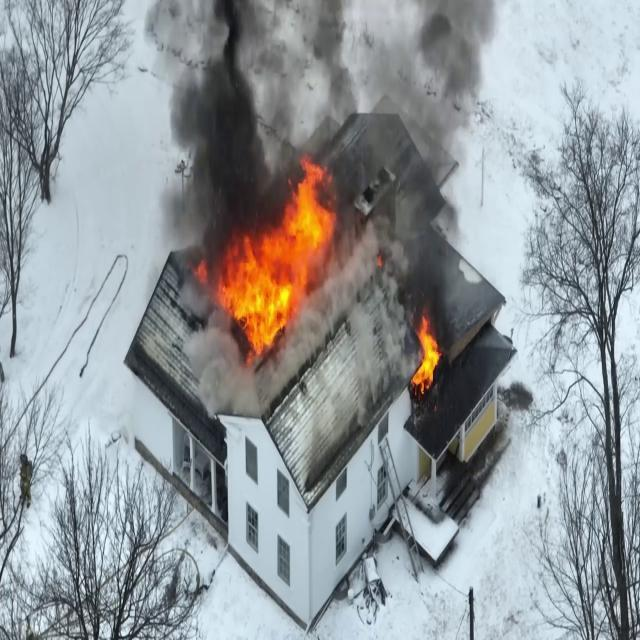Fire: (212, 140, 350, 362), (408, 305, 449, 399)
Smoke: (365, 0, 506, 280), (153, 0, 364, 158)
